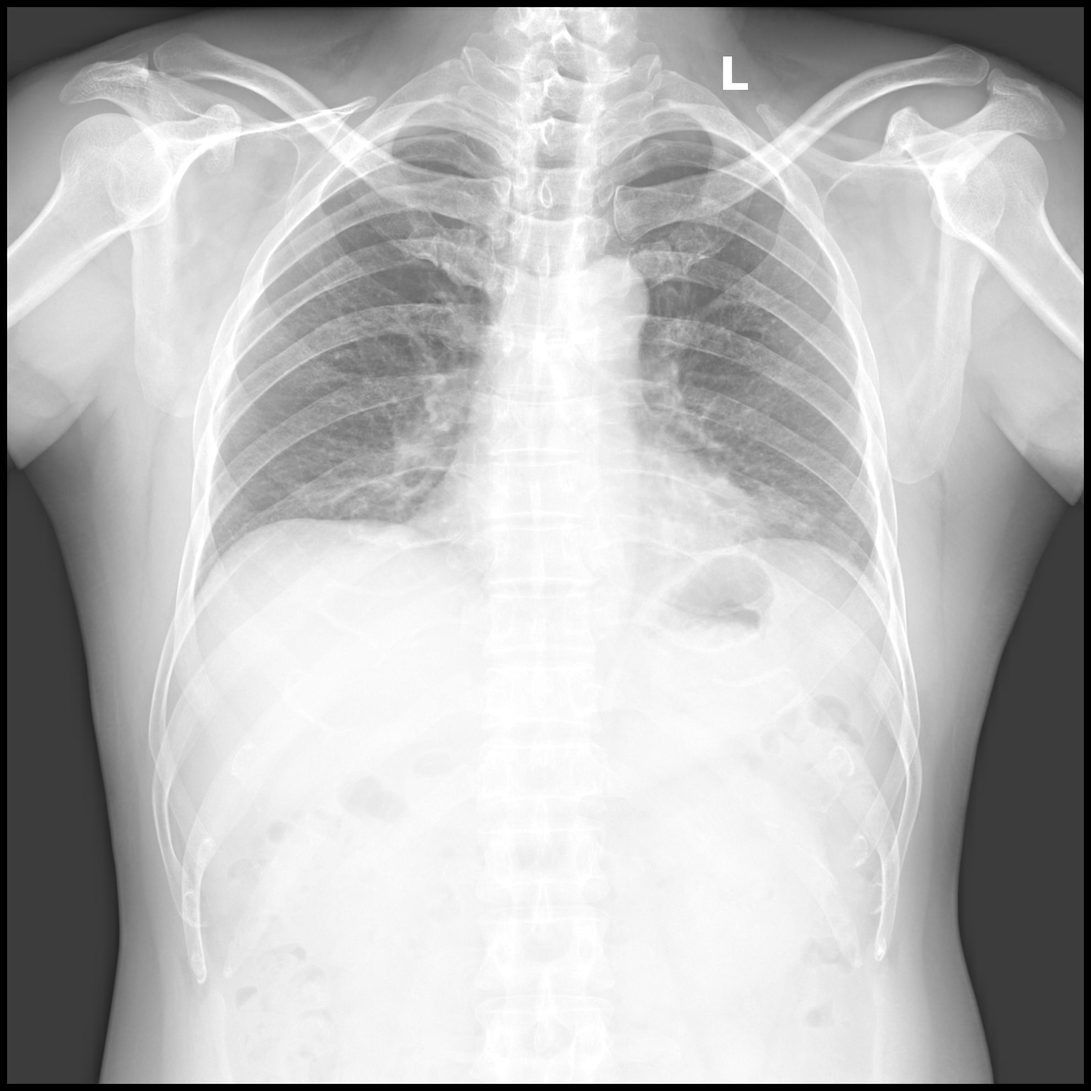Aortic enlargement: (554, 253, 653, 338)
Cardiomegaly: (404, 463, 775, 568)
Pleural thickening: (330, 123, 462, 148)
